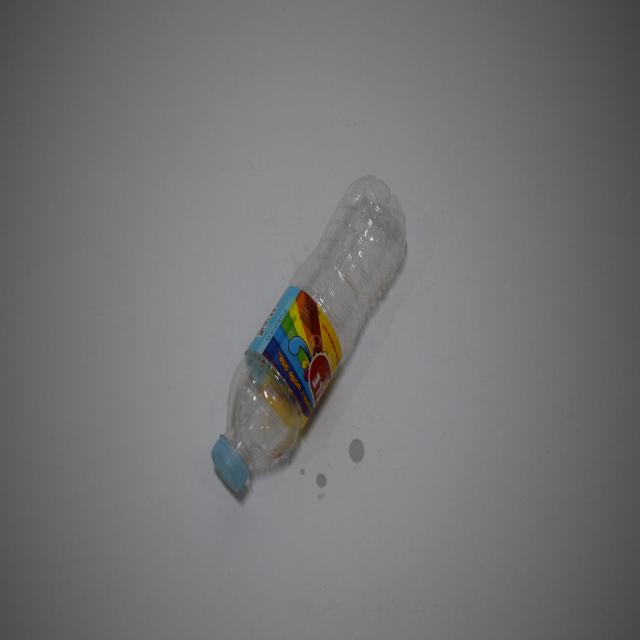bottle: (209, 167, 408, 496)
